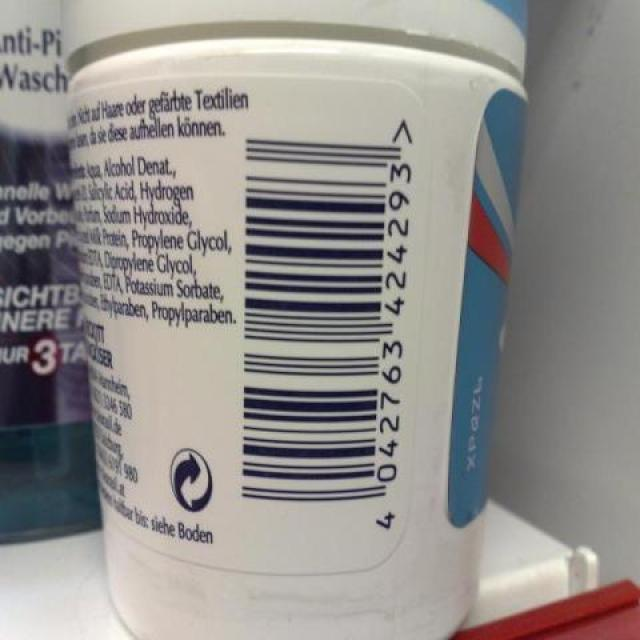Barcode: (234, 108, 425, 556)
